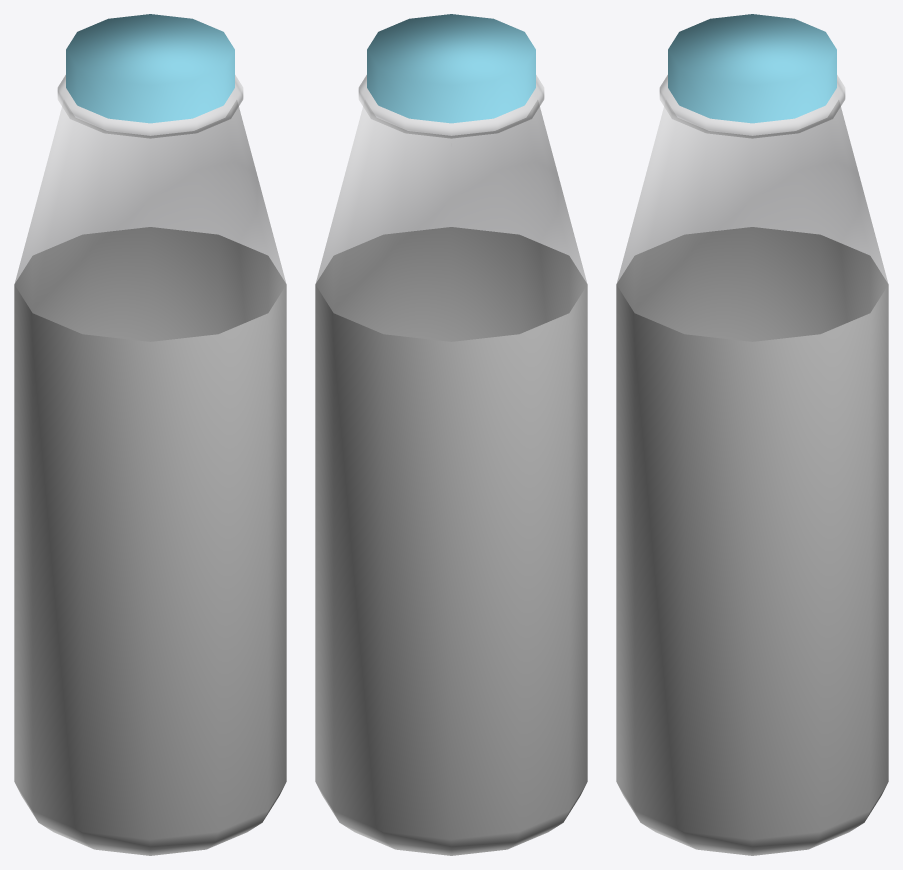
File: milk.fbx
3 views of the same model, side by side, from view 1: azimuth 30°, elevation 25°; view 2: azimuth 150°, elevation 25°; view 3: azimuth 270°, elevation 25° (orthographic).
Parts seen in each view (by area): view 1: milk; view 2: milk; view 3: milk.
Part boxes in pixels (<box>): milk: <box>14,14,286,855</box>; milk: <box>315,14,587,855</box>; milk: <box>616,14,888,855</box>.
Bounding box in the file's own units: 24.28 × 74.72 × 24.28.
